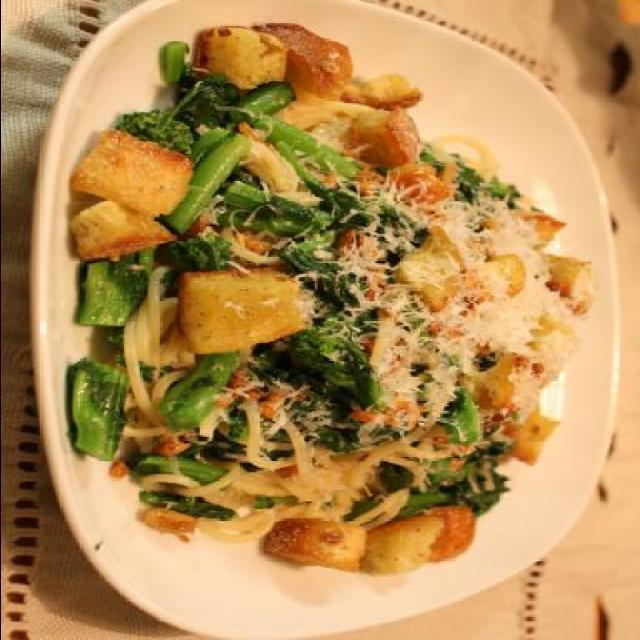Salad: (74, 18, 606, 574)
